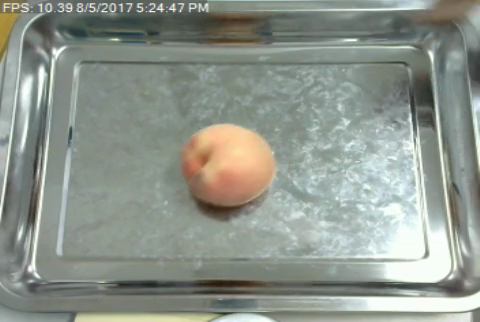Peach: (182, 123, 276, 207)
